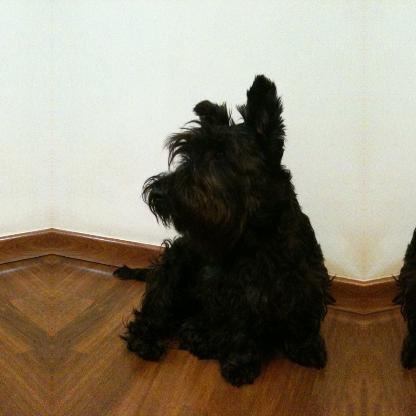Dog: (110, 71, 336, 387)
